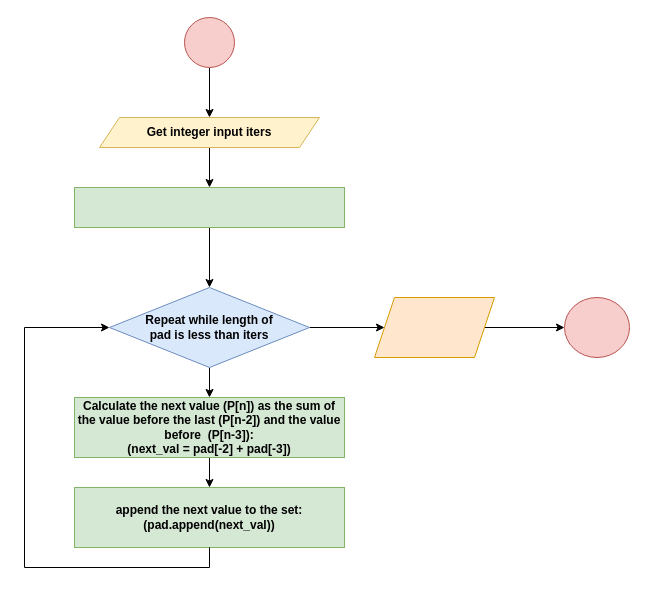
Some shapes in this 647 by 593 pixel diagram are drawn without their labels. Here are the shapes that lost their labels. From the top down, the box of each, then its label:
(74, 186, 344, 228): initialise pad as the set [1, 1, 1]
(374, 296, 494, 358): Return pad
